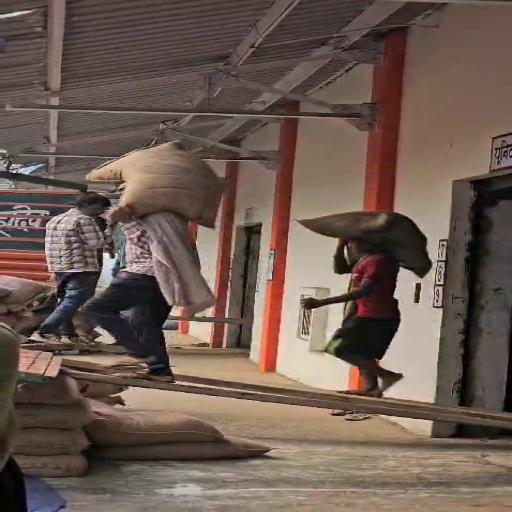bag: (86, 139, 232, 230), (293, 205, 435, 278)
